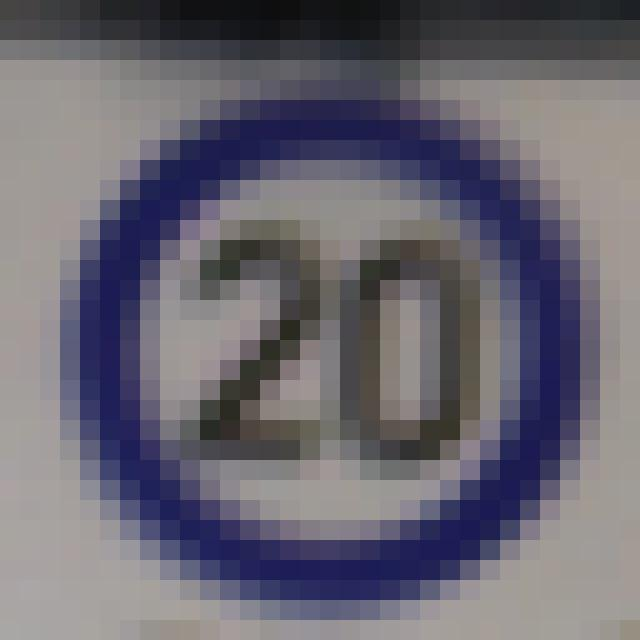SPEED LIMIT 20: (77, 111, 589, 608)
